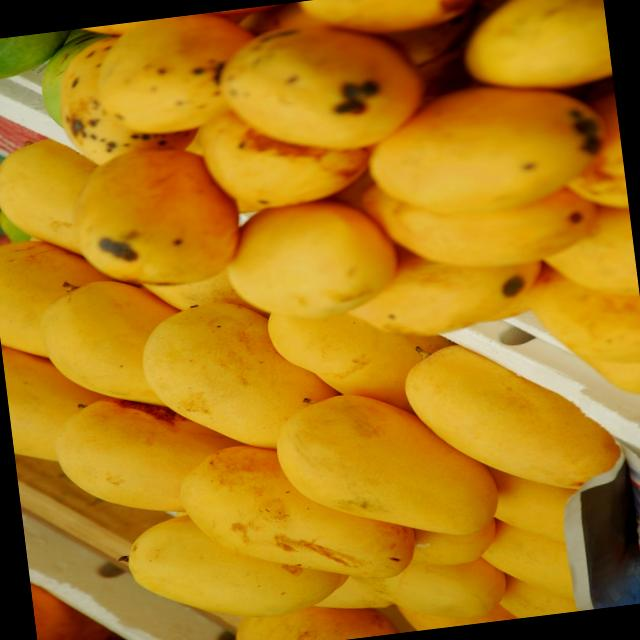mango: (170, 418, 408, 602), (269, 374, 508, 549), (398, 326, 624, 508), (361, 72, 610, 225), (137, 294, 343, 458), (215, 12, 426, 162), (62, 135, 244, 294), (49, 383, 250, 526), (362, 160, 598, 280), (218, 194, 400, 326), (89, 7, 262, 142), (36, 278, 194, 414)
